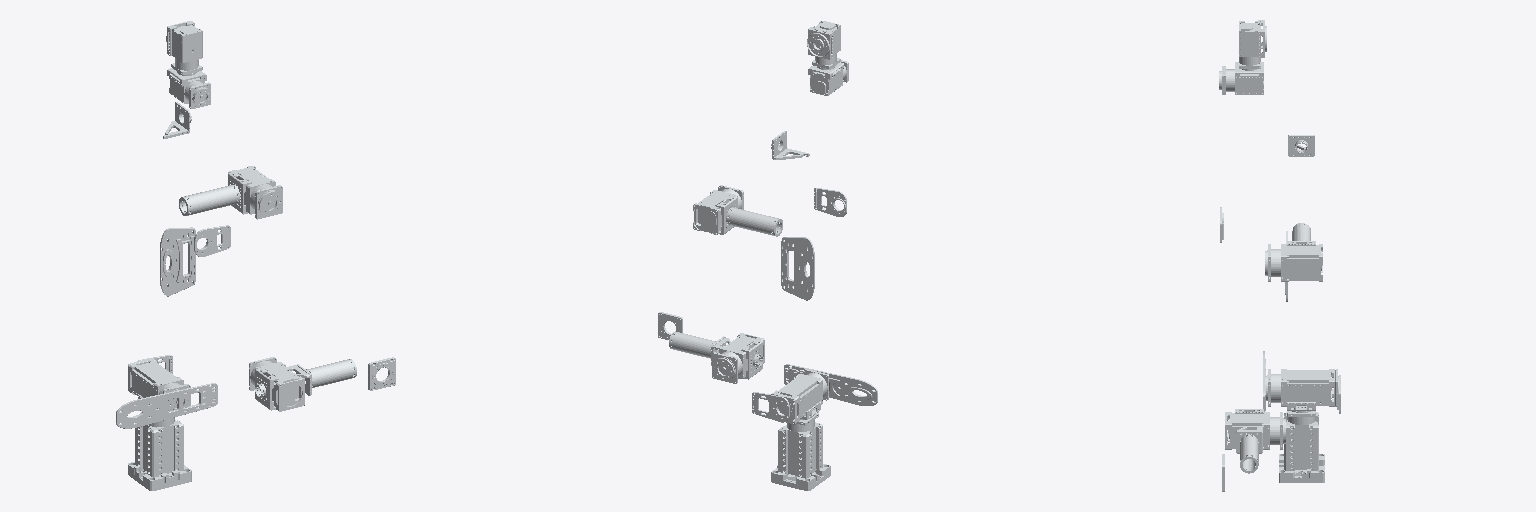
robot.urdf — single_arm_v19:
<?xml version="1.0" encoding="utf-8"?>
<!-- This URDF was automatically created by SolidWorks to URDF Exporter! Originally created by [author] ([email redacted]) 
     Commit Version: 1.6.0-4-g7f85cfe  Build Version: 1.6.7995.38578
     For more information, please see http://wiki.ros.org/sw_urdf_exporter -->
<robot
  name="single_arm_v19">
  <link name="dummy"/>
  <joint name="dummy_joint" type="fixed">
    <parent link="dummy"/>
    <child link="base_link"/>
    </joint>
  <link name='base_link'>
  <!-- <link
    name="base_link"> -->
    <inertial>
      <origin
        xyz="-0.00010098 -0.00035109 0.054127"
        rpy="0 0 0" />
      <mass
        value="2.94316" />
      <inertia
        ixx="0.00082016"
        ixy="3.555E-10"
        ixz="-4.1821E-06"
        iyy="0.00081979"
        iyz="-1.4527E-07"
        izz="0.00035328" />
    </inertial>
    <visual>
      <origin
        xyz="0 0 0"
        rpy="0 0 0" />
      <geometry>
        <mesh
          filename="package://single_arm_v19/meshes/base_link.STL" />
      </geometry>
      <material
        name="">
        <color
          rgba="0.89804 0.91765 0.92941 1" />
      </material>
    </visual>
    <collision>
      <origin
        xyz="0 0 0"
        rpy="0 0 0" />
      <geometry>
        <mesh
          filename="package://single_arm_v19/meshes/base_link.STL" />
      </geometry>
    </collision>
  </link>
  <link
    name="link1">
    <inertial>
      <origin
        xyz="3.305E-06 0.0036146 0.029085"
        rpy="0 0 0" />
      <mass
        value="0.93428" />
      <inertia
        ixx="0.00048112"
        ixy="-7.0827E-08"
        ixz="-3.5566E-10"
        iyy="0.00018986"
        iyz="4.1821E-06"
        izz="0.0004948" />
    </inertial>
    <visual>
      <origin
        xyz="0 0 0"
        rpy="0 0 0" />
      <geometry>
        <mesh
          filename="package://single_arm_v19/meshes/link1.STL" />
      </geometry>
      <material
        name="">
        <color
          rgba="0.89804 0.91765 0.92941 1" />
      </material>
    </visual>
    <collision>
      <origin
        xyz="0 0 0"
        rpy="0 0 0" />
      <geometry>
        <mesh
          filename="package://single_arm_v19/meshes/link1.STL" />
      </geometry>
    </collision>
  </link>
  <joint
    name="joint1"
    type="revolute">
    <origin
      xyz="0 0 0.1445"
      rpy="0 0 0" />
    <parent
      link="base_link" />
    <child
      link="link1" />
    <axis
      xyz="0 0 1" />
    <limit
      lower="-3.14"
      upper="3.14"
      effort="0"
      velocity="0" />
  </joint>
  <link
    name="link2">
    <inertial>
      <origin
        xyz="0.24012814792212095 2.033119680294267e-06 0.013246731868140266"
        rpy="0 0 0" />
      <mass
        value="0.4749073641101881"  />
      <inertia
        ixx="0.0009460509872811128"
        ixy="4.8638023001019324e-08"
        ixz="-0.0007595877946933649"
        iyy="0.004009204305271544"
        iyz="-1.7174352031655893e-08"
        izz="0.003258823651895408" />
    </inertial>
    <visual>
      <origin
        xyz="0 0 0"
        rpy="0 0 0" />
      <geometry>
        <mesh
          filename="package://dynamics/src/dynamics/meshes/merged_single_arm_v19_axis_2.STL" />
      </geometry>
      <material
        name="">
        <color
          rgba="0.89804 0.91765 0.92941 1" />
      </material>
    </visual>
    <collision>
      <origin
        xyz="0 0 0"
        rpy="0 0 0" />
      <geometry>
        <mesh
          filename="package://single_arm_v19/meshes/link2.STL" />
      </geometry>
    </collision>
  </link>
  <joint
    name="joint2"
    type="revolute">
    <origin
      xyz="0 -0.0685 0.0315"
      rpy="1.5708 0 0" />
    <parent
      link="link1" />
    <child
      link="link2" />
    <axis
      xyz="0 0 1" />
    <limit
      lower="-3.14"
      upper="3.14"
      effort="0"
      velocity="0" />
  </joint>
  <link
    name="link3">
    <inertial>
      <origin
        xyz="1.6081545635701008e-07 0.2311458503814522 0.012429772741547173"
        rpy="0 0 0" />
      <mass
        value="0.45080484472603943"  />
      <inertia
        ixx="0.0037004747161655596"
        ixy="1.710223955588212e-08"
        ixz="6.082684414896612e-10"
        iyy="0.0007261411775275594"
        iyz="-0.0005254952787559186"
        izz="0.003155523495572531" />
    </inertial>
    <visual>
      <origin
        xyz="0 0 0"
        rpy="0 0 0" />
      <geometry>
        <mesh
          filename="package://dynamics/src/dynamics/meshes/merged_single_arm_v19_axis_3.STL" />
      </geometry>
      <material
        name="">
        <color
          rgba="0.89804 0.91765 0.92941 1" />
      </material>
    </visual>
    <collision>
      <origin
        xyz="0 0 0"
        rpy="0 0 0" />
      <geometry>
        <mesh
          filename="package://single_arm_v19/meshes/link3.STL" />
      </geometry>
    </collision>
  </link>
  <joint
    name="joint3"
    type="revolute">
    <origin
      xyz="0 0.346667000820369 -0.039"
      rpy="-3.1416 0 1.5708" />
    <parent
      link="link2" />
    <child
      link="link3" />
    <axis
      xyz="0 0 1" />
    <limit
      lower="-3.14"
      upper="3.14"
      effort="0"
      velocity="0" />
  </joint>
  <link
    name="link4">
    <inertial>
      <origin
        xyz="-2.2204E-16 -0.01039 0.02404"
        rpy="0 0 0" />
      <mass
        value="0.36924" />
      <inertia
        ixx="9.4187E-05"
        ixy="1.14E-19"
        ixz="1.4502E-16"
        iyy="4.476E-05"
        iyz="-5.3346E-07"
        izz="0.0001027" />
    </inertial>
    <visual>
      <origin
        xyz="0 0 0"
        rpy="0 0 0" />
      <geometry>
        <mesh
          filename="package://single_arm_v19/meshes/link4.STL" />
      </geometry>
      <material
        name="">
        <color
          rgba="0.89804 0.91765 0.92941 1" />
      </material>
    </visual>
    <collision>
      <origin
        xyz="0 0 0"
        rpy="0 0 0" />
      <geometry>
        <mesh
          filename="package://single_arm_v19/meshes/link4.STL" />
      </geometry>
    </collision>
  </link>
  <joint
    name="joint4"
    type="revolute">
    <origin
      xyz="0.37323299917963104 0 -0.039"
      rpy="-3.1416 0 1.5708" />
    <parent
      link="link3" />
    <child
      link="link4" />
    <axis
      xyz="0 0 1" />
    <limit
      lower="-3.14"
      upper="3.14"
      effort="0"
      velocity="0" />
  </joint>
  <link
    name="link5">
    <inertial>
      <origin
        xyz="-0.010457 -5.5511E-17 0.028614"
        rpy="0 0 0" />
      <mass
        value="0.36821" />
      <inertia
        ixx="4.3878E-05"
        ixy="-1.0699E-19"
        ixz="-5.3346E-07"
        iyy="9.3658E-05"
        iyz="-1.4501E-16"
        izz="0.00010133" />
    </inertial>
    <visual>
      <origin
        xyz="0 0 0"
        rpy="0 0 0" />
      <geometry>
        <mesh
          filename="package://single_arm_v19/meshes/link5.STL" />
      </geometry>
      <material
        name="">
        <color
          rgba="0.89804 0.91765 0.92941 1" />
      </material>
    </visual>
    <collision>
      <origin
        xyz="0 0 0"
        rpy="0 0 0" />
      <geometry>
        <mesh
          filename="package://single_arm_v19/meshes/link5.STL" />
      </geometry>
    </collision>
  </link>
  <joint
    name="joint5"
    type="revolute">
    <origin
      xyz="0 -0.052 0.0286"
      rpy="1.5708 1.5708 0" />
    <parent
      link="link4" />
    <child
      link="link5" />
    <axis
      xyz="0 0 1" />
    <limit
      lower="-3.14"
      upper="3.14"
      effort="0"
      velocity="0" />
  </joint>
  <link
    name="link6">
    <inertial>
      <origin
        xyz="-5.3794E-07 1.1102E-16 0.0070001"
        rpy="0 0 0" />
      <mass
        value="0.025977" />
      <inertia
        ixx="2.2053E-06"
        ixy="1.7867E-22"
        ixz="-3.285E-23"
        iyy="2.2053E-06"
        iyz="-9.777E-22"
        izz="3.9777E-06" />
    </inertial>
    <visual>
      <origin
        xyz="0 0 0"
        rpy="0 0 0" />
      <geometry>
        <mesh
          filename="package://single_arm_v19/meshes/link6.STL" />
      </geometry>
      <material
        name="">
        <color
          rgba="0.89804 0.91765 0.92941 1" />
      </material>
    </visual>
    <collision>
      <origin
        xyz="0 0 0"
        rpy="0 0 0" />
      <geometry>
        <mesh
          filename="package://single_arm_v19/meshes/link6.STL" />
      </geometry>
    </collision>
  </link>
  <joint
    name="joint6"
    type="revolute">
    <origin
      xyz="-0.055 0 0.033001"
      rpy="3.1416 -1.5708 0" />
    <parent
      link="link5" />
    <child
      link="link6" />
    <axis
      xyz="0 0 -1" />
    <limit
      lower="-3.14"
      upper="3.14"
      effort="0"
      velocity="0" />
  </joint>
</robot>

--- Facts derived from the render (not from the file) ---
Views: 3 orthographic renders of the robot side by side, from view 1: azimuth 30°, elevation 25°; view 2: azimuth 150°, elevation 25°; view 3: azimuth 270°, elevation 25°.
Model single_arm_v19 with 8 links and 7 joints (6 revolute, 1 fixed), rooted at dummy, posed every joint at zero.
Visible links, largest first — view 1: link2, link3, base_link, link1, link4, link5; view 2: link3, link2, base_link, link1, link4, link5; view 3: link3, link2, base_link, link1, link4, link5.
Boxes of the visible links, x1,y1,x2,y2 form: link2: (116,355,395,428); link3: (160,102,282,296); base_link: (128,416,191,490); link1: (128,358,190,411); link4: (166,21,202,74); link5: (167,68,210,108); link3: (693,131,846,300); link2: (658,312,877,422); base_link: (771,412,830,490); link1: (771,369,828,424); link4: (807,21,840,68); link5: (808,60,848,95); link3: (1220,135,1322,301); link2: (1222,351,1340,491); base_link: (1279,411,1324,482); link1: (1265,369,1338,410); link4: (1239,20,1266,68); link5: (1219,62,1263,94).
Bounding box of the posed robot: 0.5314 × 0.2271 × 0.9229 m (x, y, z).
Meshes: 7 distinct files referenced, 7 mesh visuals loaded (7 binary STL).
